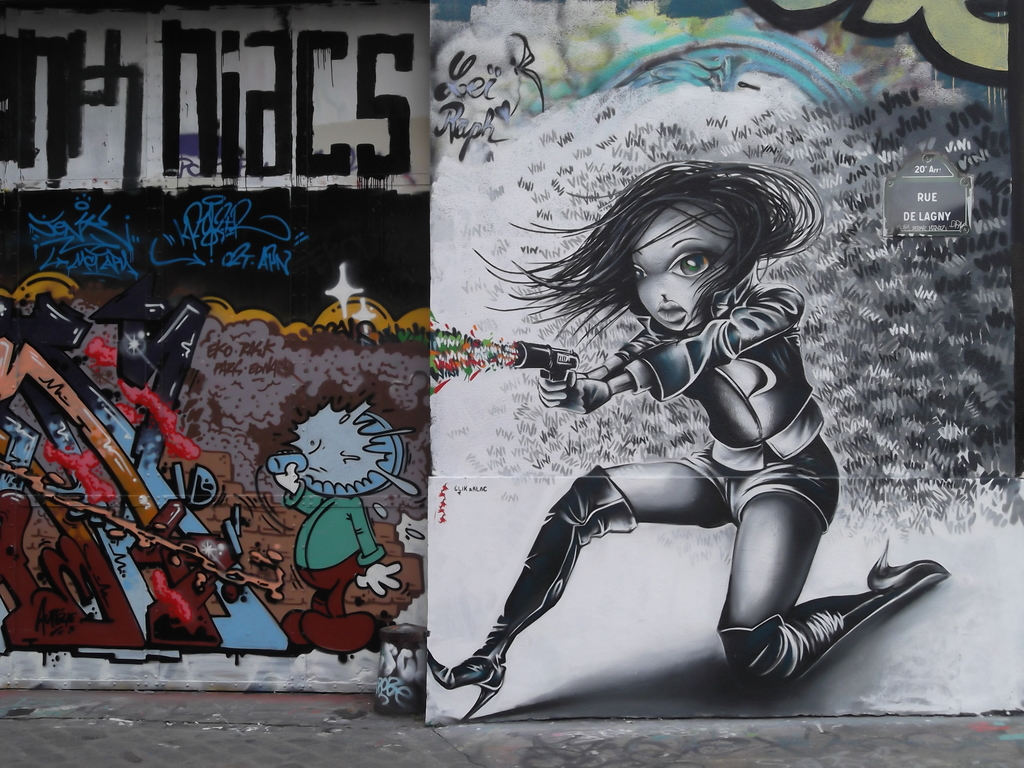Person: (426, 159, 953, 723)
